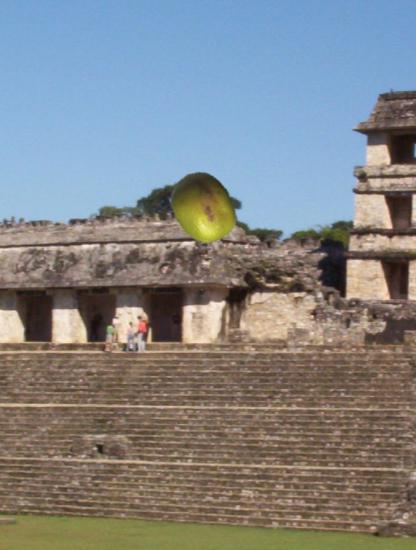Pomelo: (166, 171, 240, 245)
